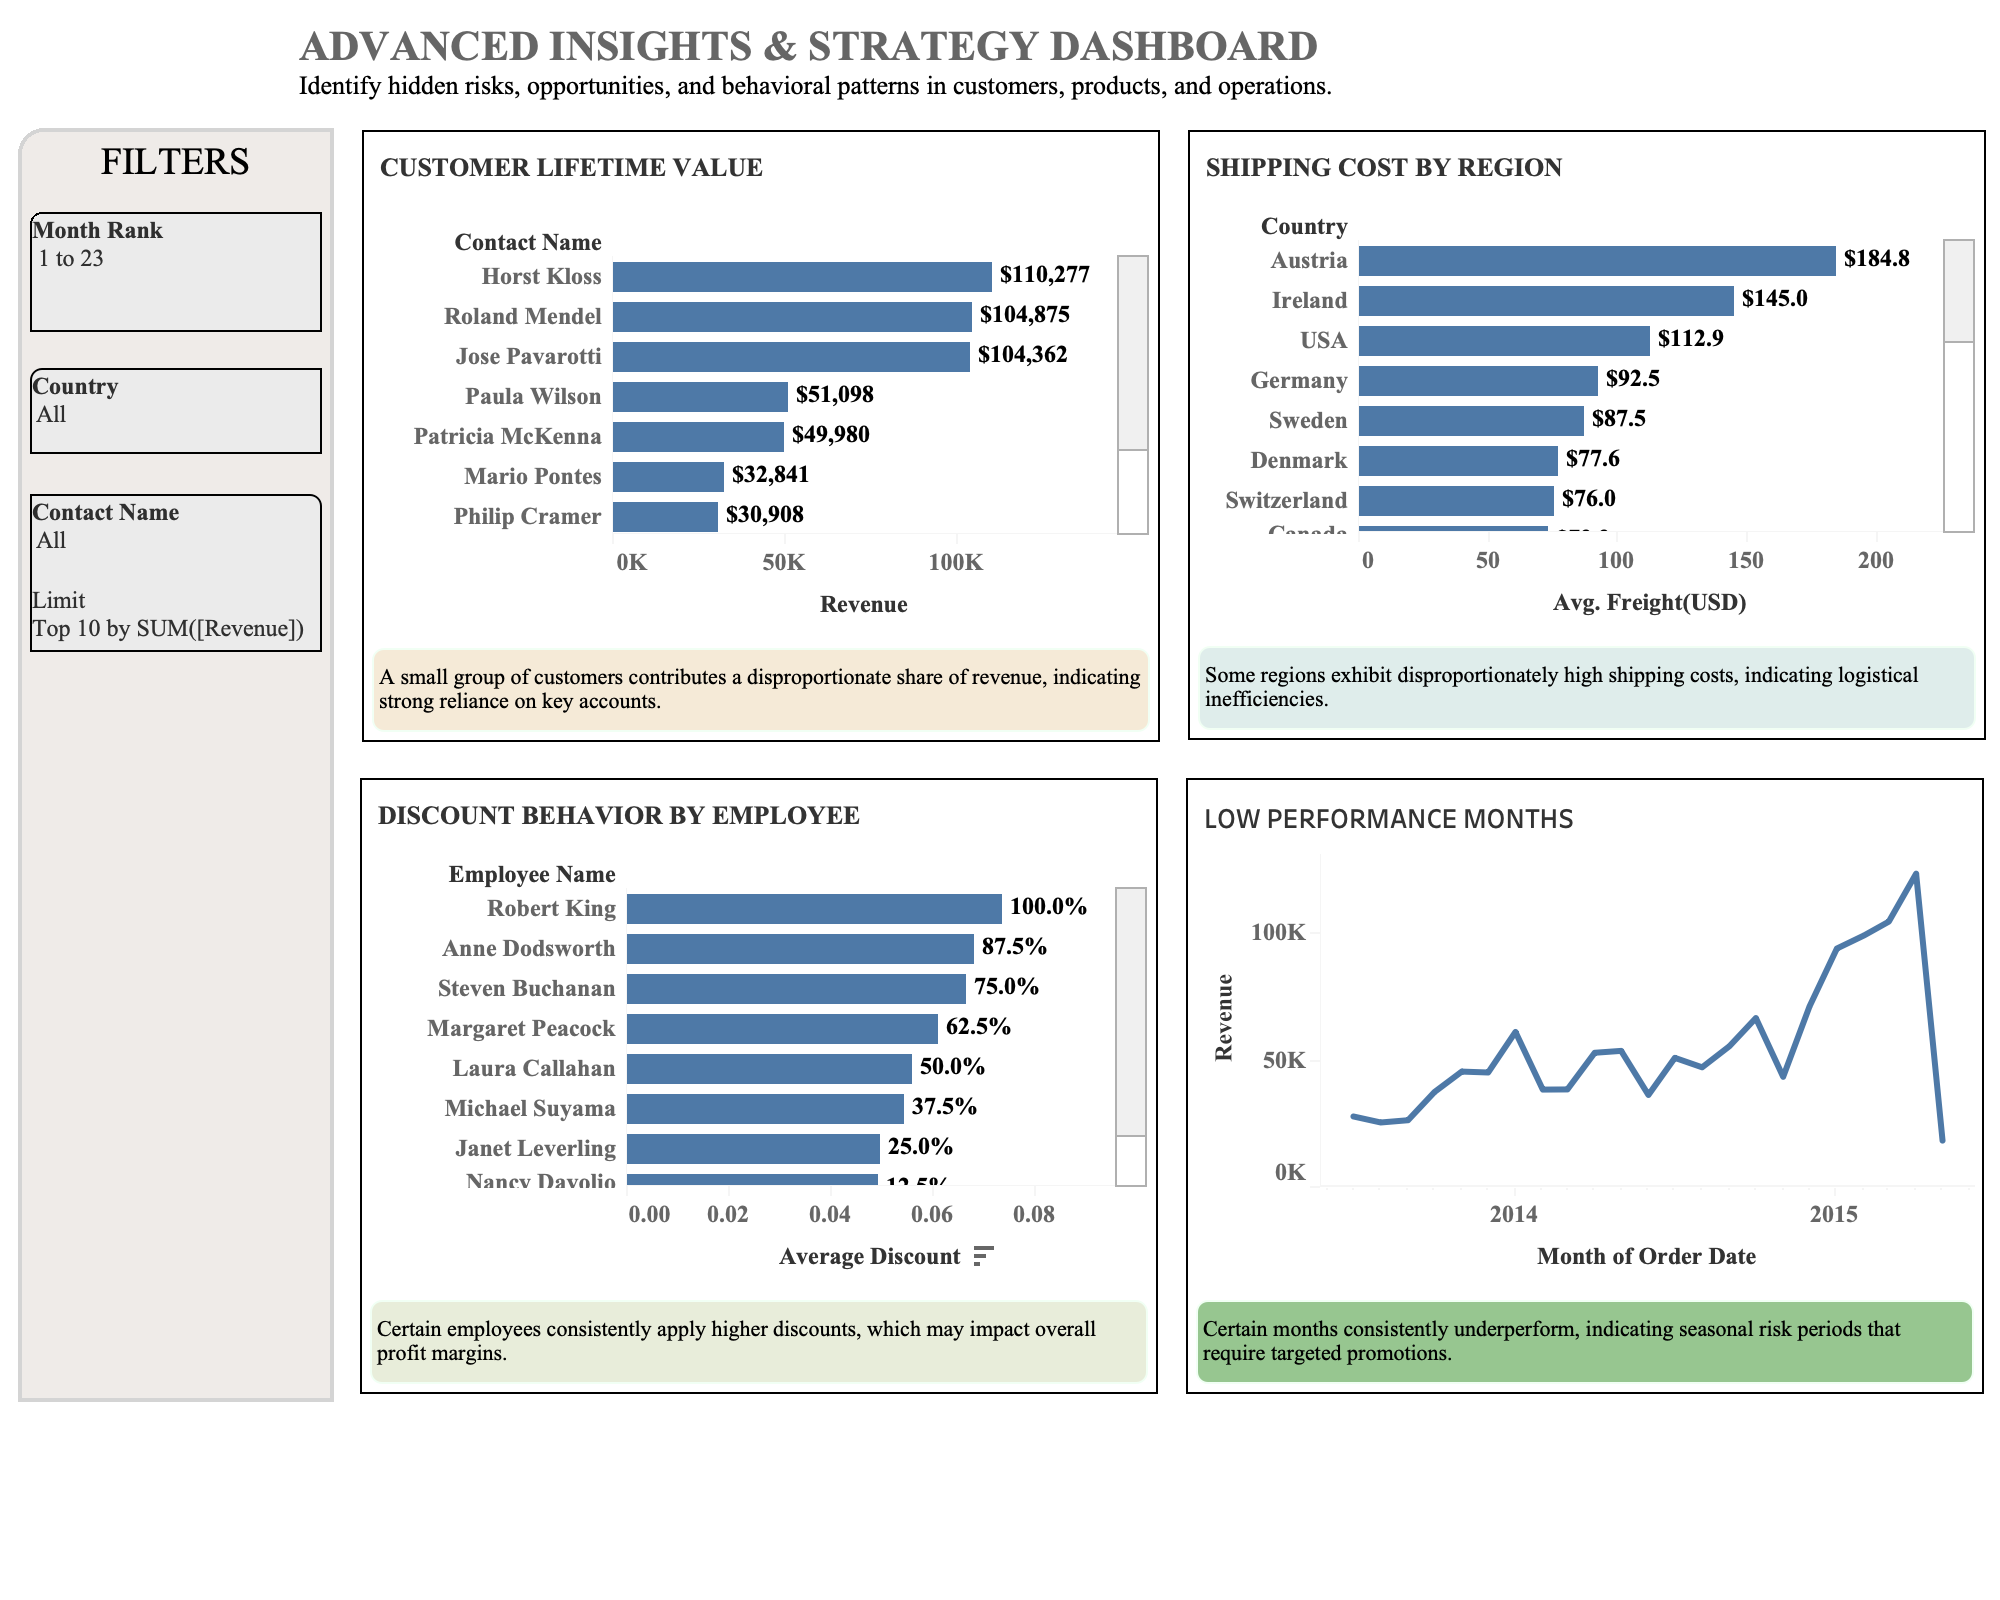

What the dashboard file says about the page in this screenshot:
{"tool":"tableau","page":{"name":"ADVANCED INSIGHTS & STRATEGY DASHBOARD","canvas":[1000,800],"ordinal":0},"visuals":[{"type":"text","box":[147,5,663,52]},{"type":"text","box":[11,66,154,30]},{"type":"worksheet","title":"CUSTOMER LIFETIME VALUE","mark":"Automatic","rows":["contactName"],"cols":["Calculation_0364071424393216"],"box":[182,66,397,254]},{"type":"worksheet","title":"SHIPPING COST BY REGION","mark":"Bar","rows":["country"],"cols":["freight"],"box":[595,66,397,253]},{"type":"filter","title":"LOW PERFORMANCE MONTHS","param":"[federated.0mvdz6j06fmfxy10p40rm1pjm4gl].[usr:Calculation_0099845727584256:qk]","box":[11,96,154,78]},{"type":"filter","title":"SHIPPING COST BY REGION","param":"[federated.0mvdz6j06fmfxy10p40rm1pjm4gl].[none:country:nk]","box":[11,174,154,63]},{"type":"filter","title":"CUSTOMER LIFETIME VALUE","param":"[federated.0mvdz6j06fmfxy10p40rm1pjm4gl].[none:contactName:nk]","box":[11,237,154,99]},{"type":"text","box":[595,319,397,50]},{"type":"text","box":[182,320,397,50]},{"type":"worksheet","title":"DISCOUNT BEHAVIOR BY EMPLOYEE","mark":"Automatic","rows":["employeeName"],"cols":["Calculation_0099845730684929"],"box":[181,390,397,256]},{"type":"worksheet","title":"LOW PERFORMANCE MONTHS","mark":"Automatic","rows":["Calculation_0364071424393216"],"cols":["orderDate"],"box":[594,390,397,256]},{"type":"text","box":[181,646,397,50]},{"type":"text","box":[594,646,397,50]}]}

Visuals, with their boxes in screenshot pixels (x1, y1, x2, y2), scaled from the page's 1000x800 canvas onto the 2000x1600 screenshot:
text: bbox=[294, 10, 1620, 114]
text: bbox=[22, 132, 330, 192]
"CUSTOMER LIFETIME VALUE" worksheet: bbox=[364, 132, 1158, 640]
"SHIPPING COST BY REGION" worksheet (Bar marks): bbox=[1190, 132, 1984, 638]
"LOW PERFORMANCE MONTHS" filter: bbox=[22, 192, 330, 348]
"SHIPPING COST BY REGION" filter: bbox=[22, 348, 330, 474]
"CUSTOMER LIFETIME VALUE" filter: bbox=[22, 474, 330, 672]
text: bbox=[1190, 638, 1984, 738]
text: bbox=[364, 640, 1158, 740]
"DISCOUNT BEHAVIOR BY EMPLOYEE" worksheet: bbox=[362, 780, 1156, 1292]
"LOW PERFORMANCE MONTHS" worksheet: bbox=[1188, 780, 1982, 1292]
text: bbox=[362, 1292, 1156, 1392]
text: bbox=[1188, 1292, 1982, 1392]
